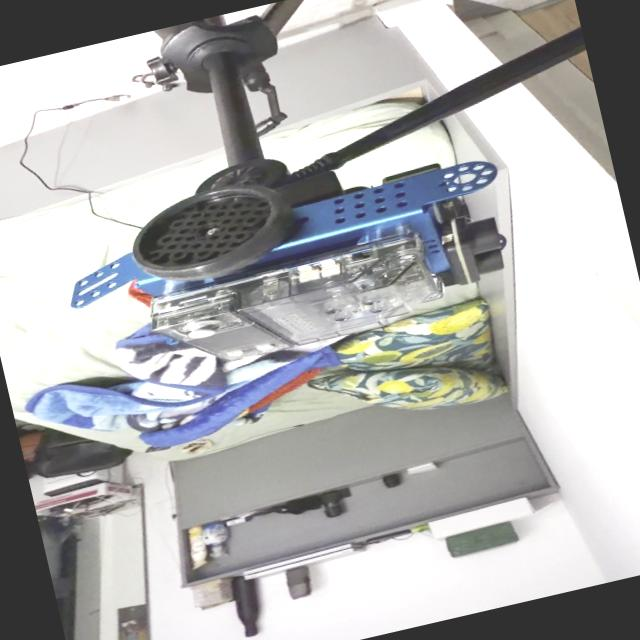mbot-detection: (38, 116, 540, 402)
